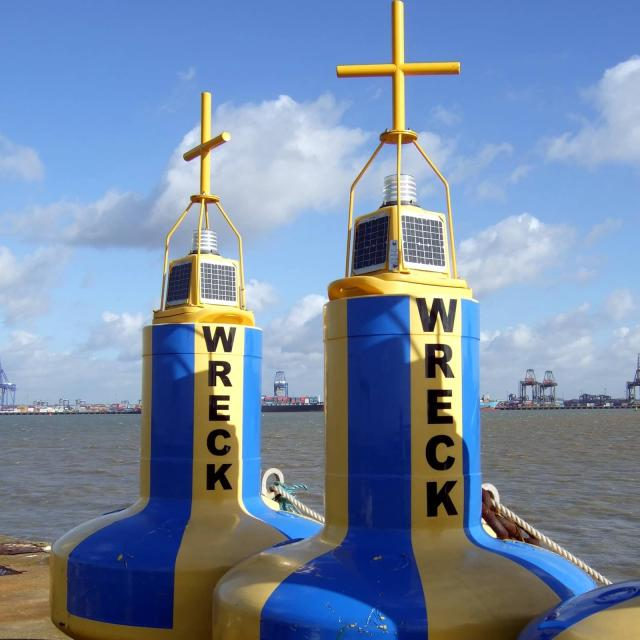marque: (287, 1, 567, 640), (81, 39, 273, 640)
